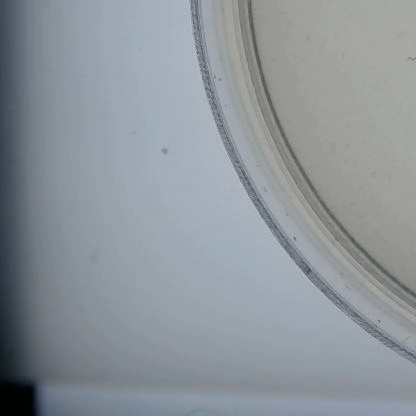worm: (392, 53, 416, 70)
